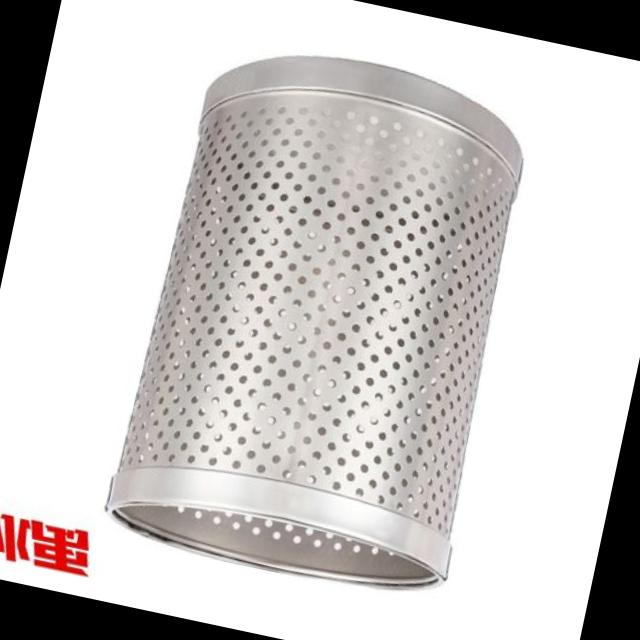dustbin: (91, 20, 555, 614)
